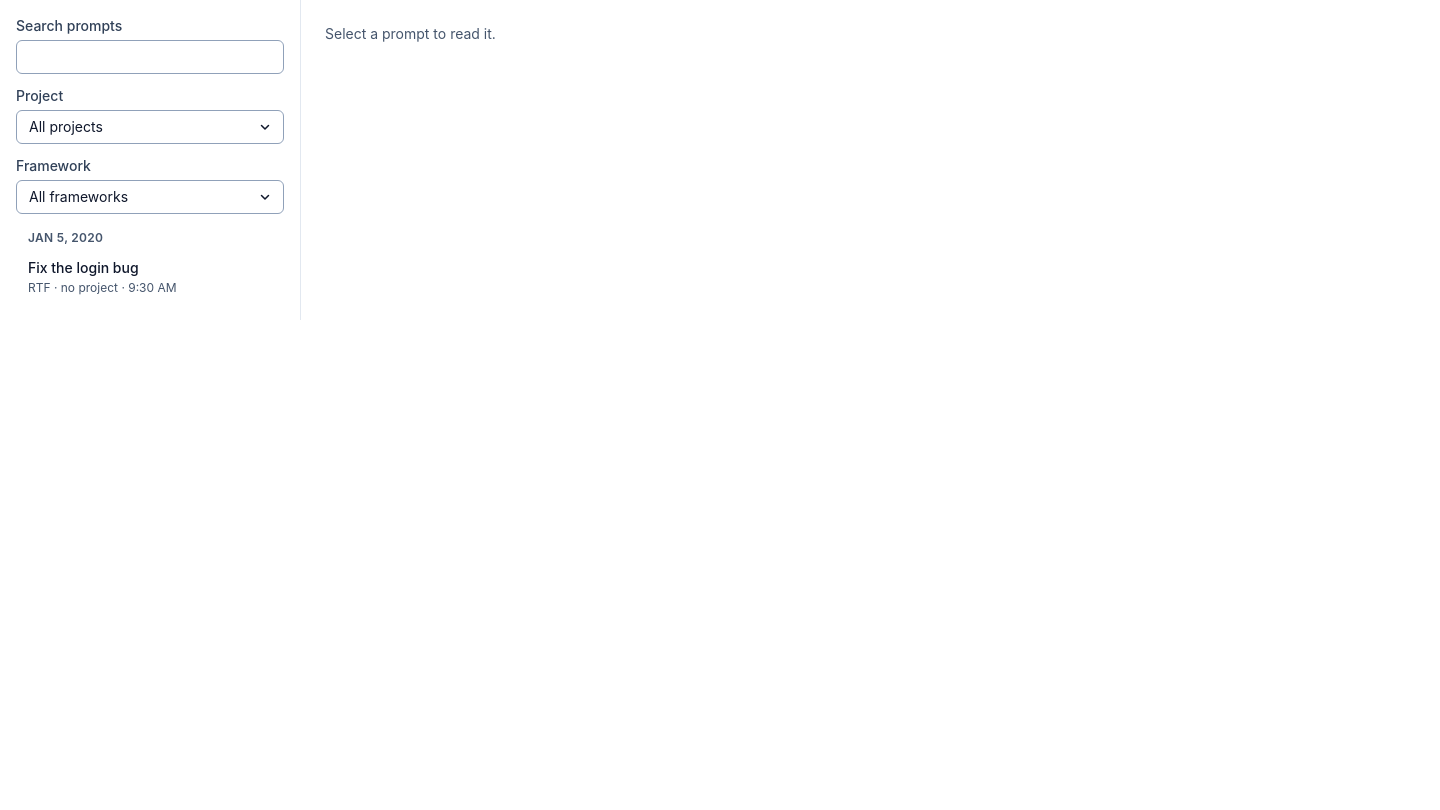
Test case: EntryDetail › copy_writes_the_saved_prompt_and_does_not_save
Click the button "Fix the login bug RTF · no project · 9:30 AM".
click(150, 277)  # box [16, 250, 284, 304]
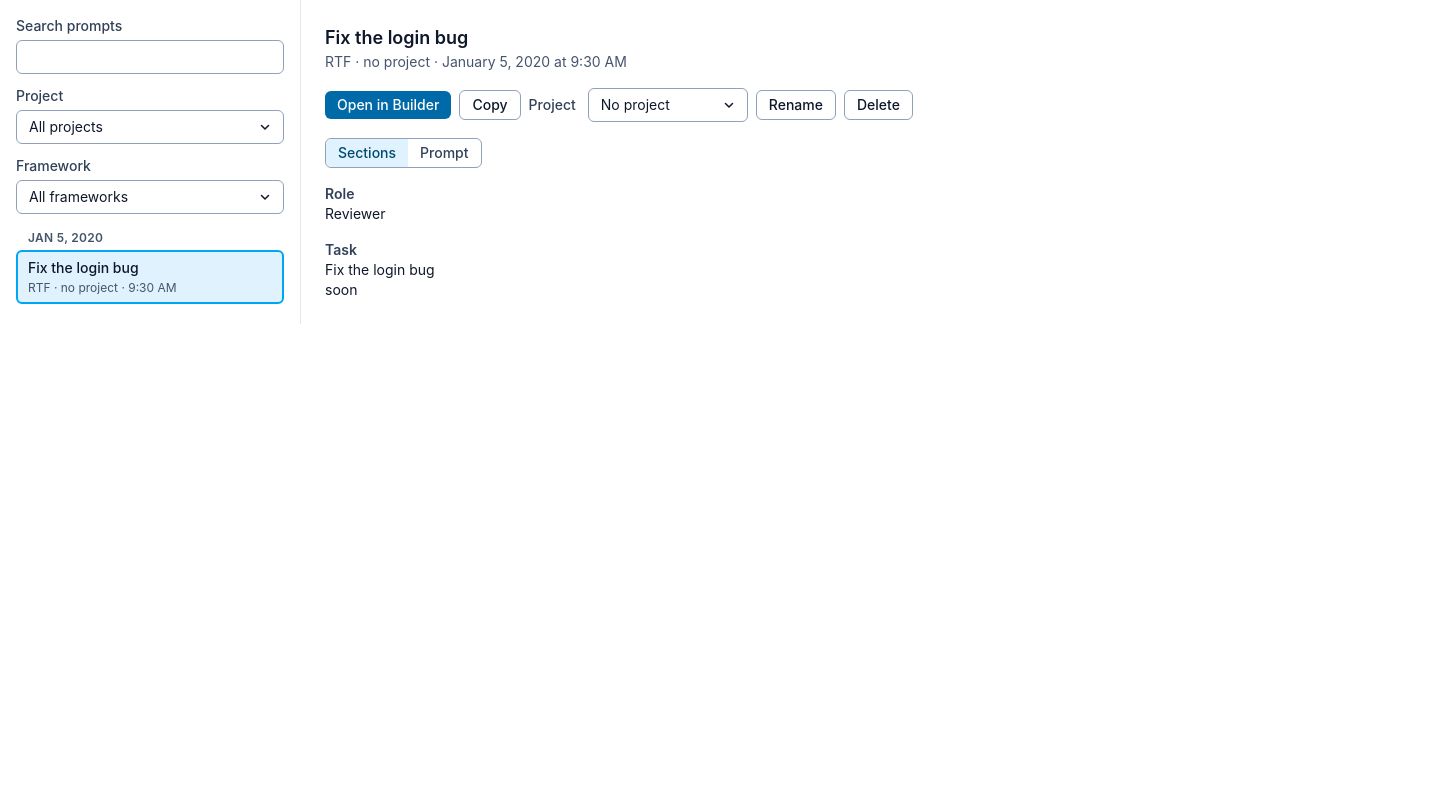
Click the button "Copy".
click(490, 105)  # box [459, 90, 521, 120]
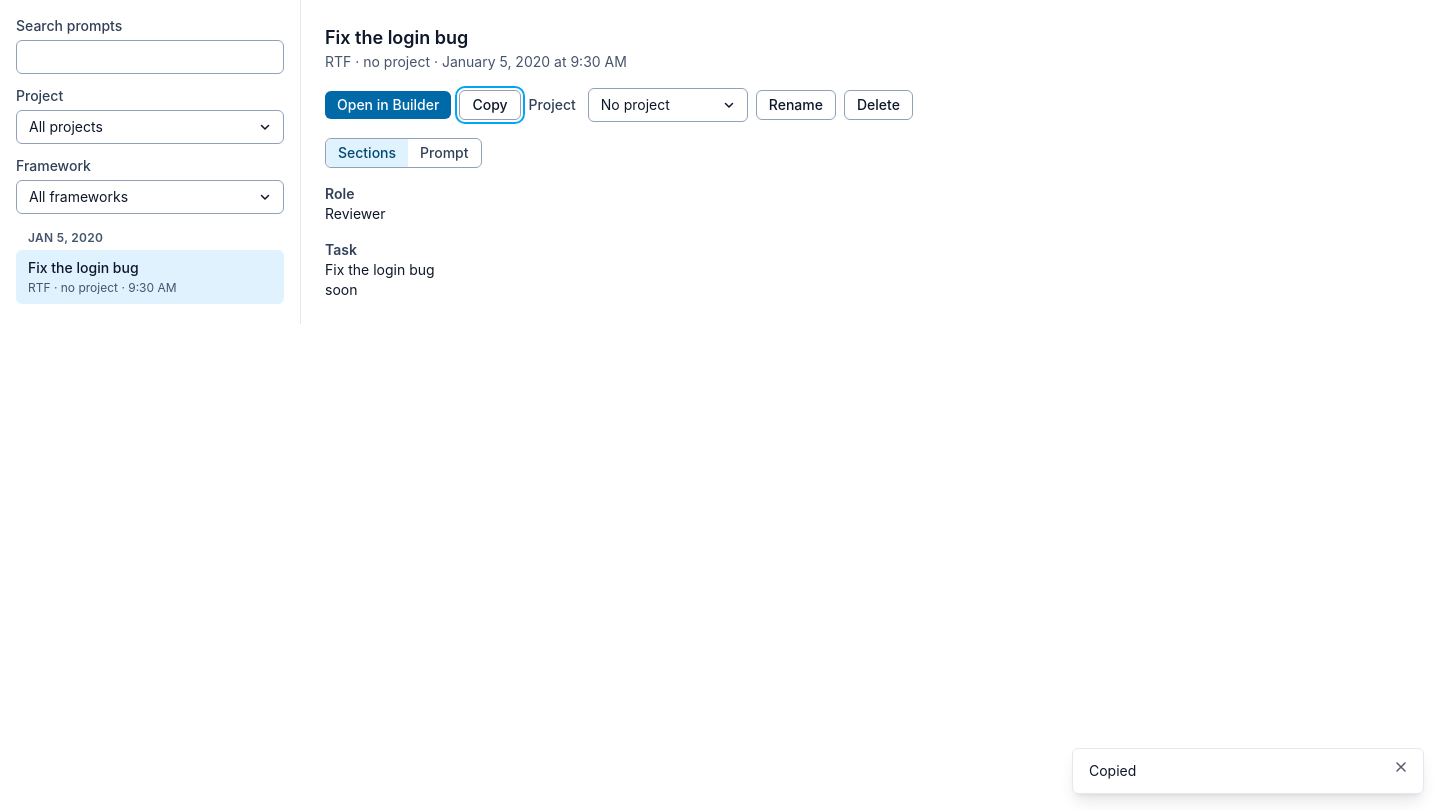
Check: the text "Copied" is shown, box [1089, 762, 1136, 779]
